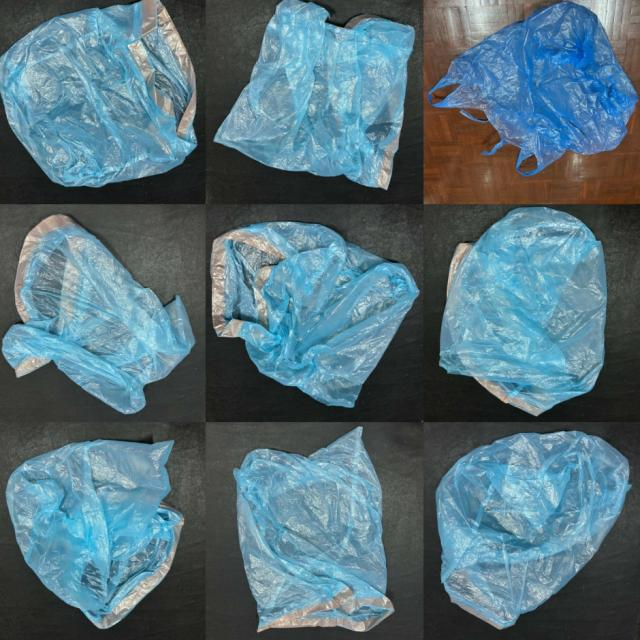plastik: (211, 221, 419, 408), (437, 431, 630, 629), (3, 215, 195, 413), (215, 0, 414, 189), (428, 2, 638, 177), (0, 0, 196, 187), (440, 207, 607, 415), (6, 440, 183, 629), (234, 427, 394, 631)
